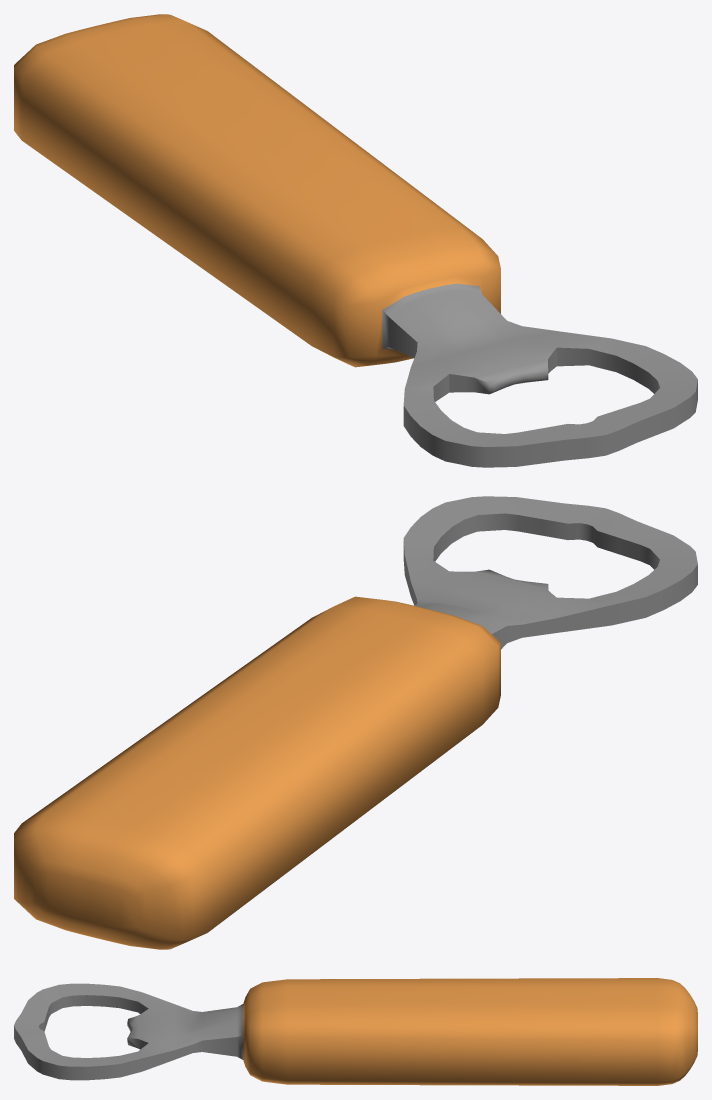
Rendered from Opener.fbx.
The picture shows the model from 3 angles, top to bottom: view 1: azimuth 30°, elevation 25°; view 2: azimuth 150°, elevation 25°; view 3: azimuth 270°, elevation 25°; orthographic projection. The views are drawn at different scales.
Visible parts, largest first — view 1: Opener; view 2: Opener; view 3: Opener.
Boxes of the visible parts, left/top/right/bottom form: Opener: left=14, top=14, right=697, bottom=467; Opener: left=14, top=496, right=697, bottom=949; Opener: left=14, top=978, right=697, bottom=1085.
Size of the model in its own units: 4.44 by 1.76 by 15.42.
